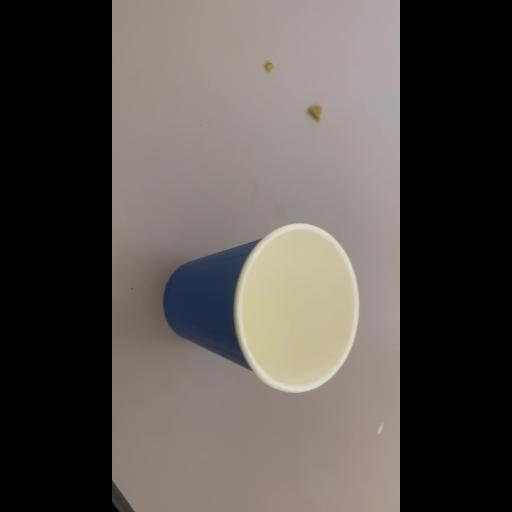lp_paper_cup: (145, 218, 379, 398)
